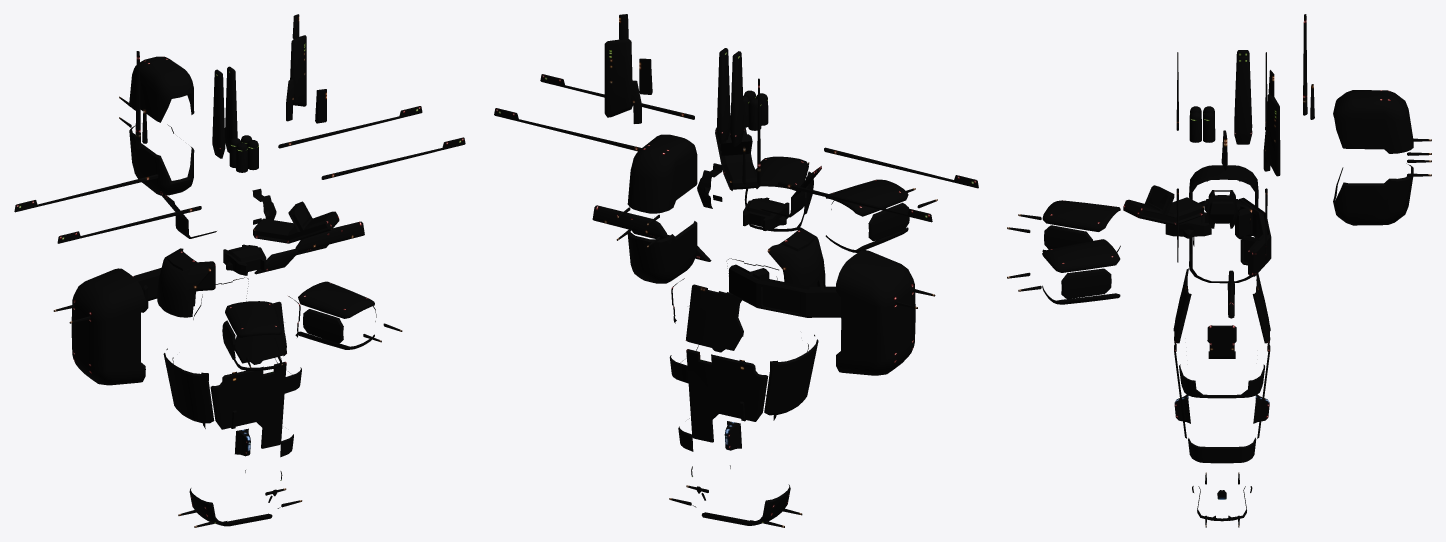
File: yao_st_dock_03.glb
The picture shows the model from 3 angles, left to right: view 1: azimuth 30°, elevation 25°; view 2: azimuth 150°, elevation 25°; view 3: azimuth 270°, elevation 25°; orthographic projection. The views are drawn at different scales.
Visible parts, largest first — view 1: yao_station_03_base_LOD0, yao_station_03_parts_LOD0; view 2: yao_station_03_base_LOD0, yao_station_03_parts_LOD0; view 3: yao_station_03_base_LOD0, yao_station_03_parts_LOD0.
Part boxes in pixels (left/top/right/bottom): yao_station_03_base_LOD0: left=71, top=56, right=376, bottom=526; yao_station_03_parts_LOD0: left=14, top=14, right=465, bottom=527; yao_station_03_base_LOD0: left=627, top=134, right=915, bottom=525; yao_station_03_parts_LOD0: left=494, top=14, right=978, bottom=527; yao_station_03_base_LOD0: left=1042, top=90, right=1413, bottom=521; yao_station_03_parts_LOD0: left=1007, top=14, right=1431, bottom=527.
Size of what is drawn, in the model's own units: 58.99 by 64.55 by 51.76.
2 materials, 2 textured.
